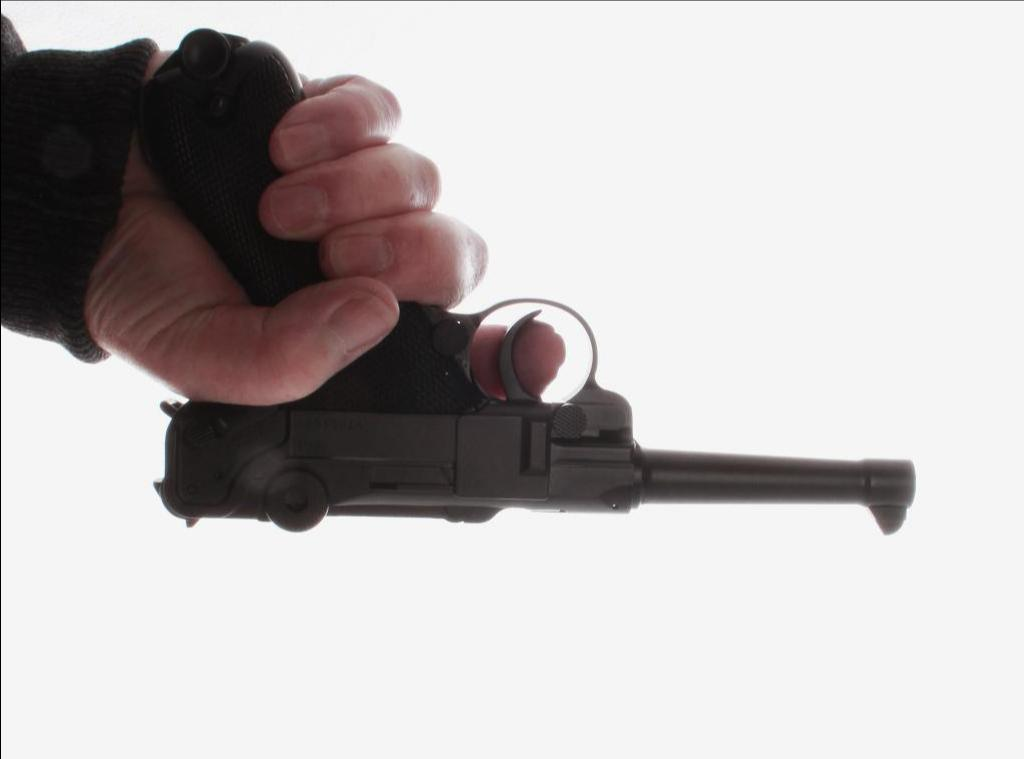gun: (134, 29, 914, 536)
